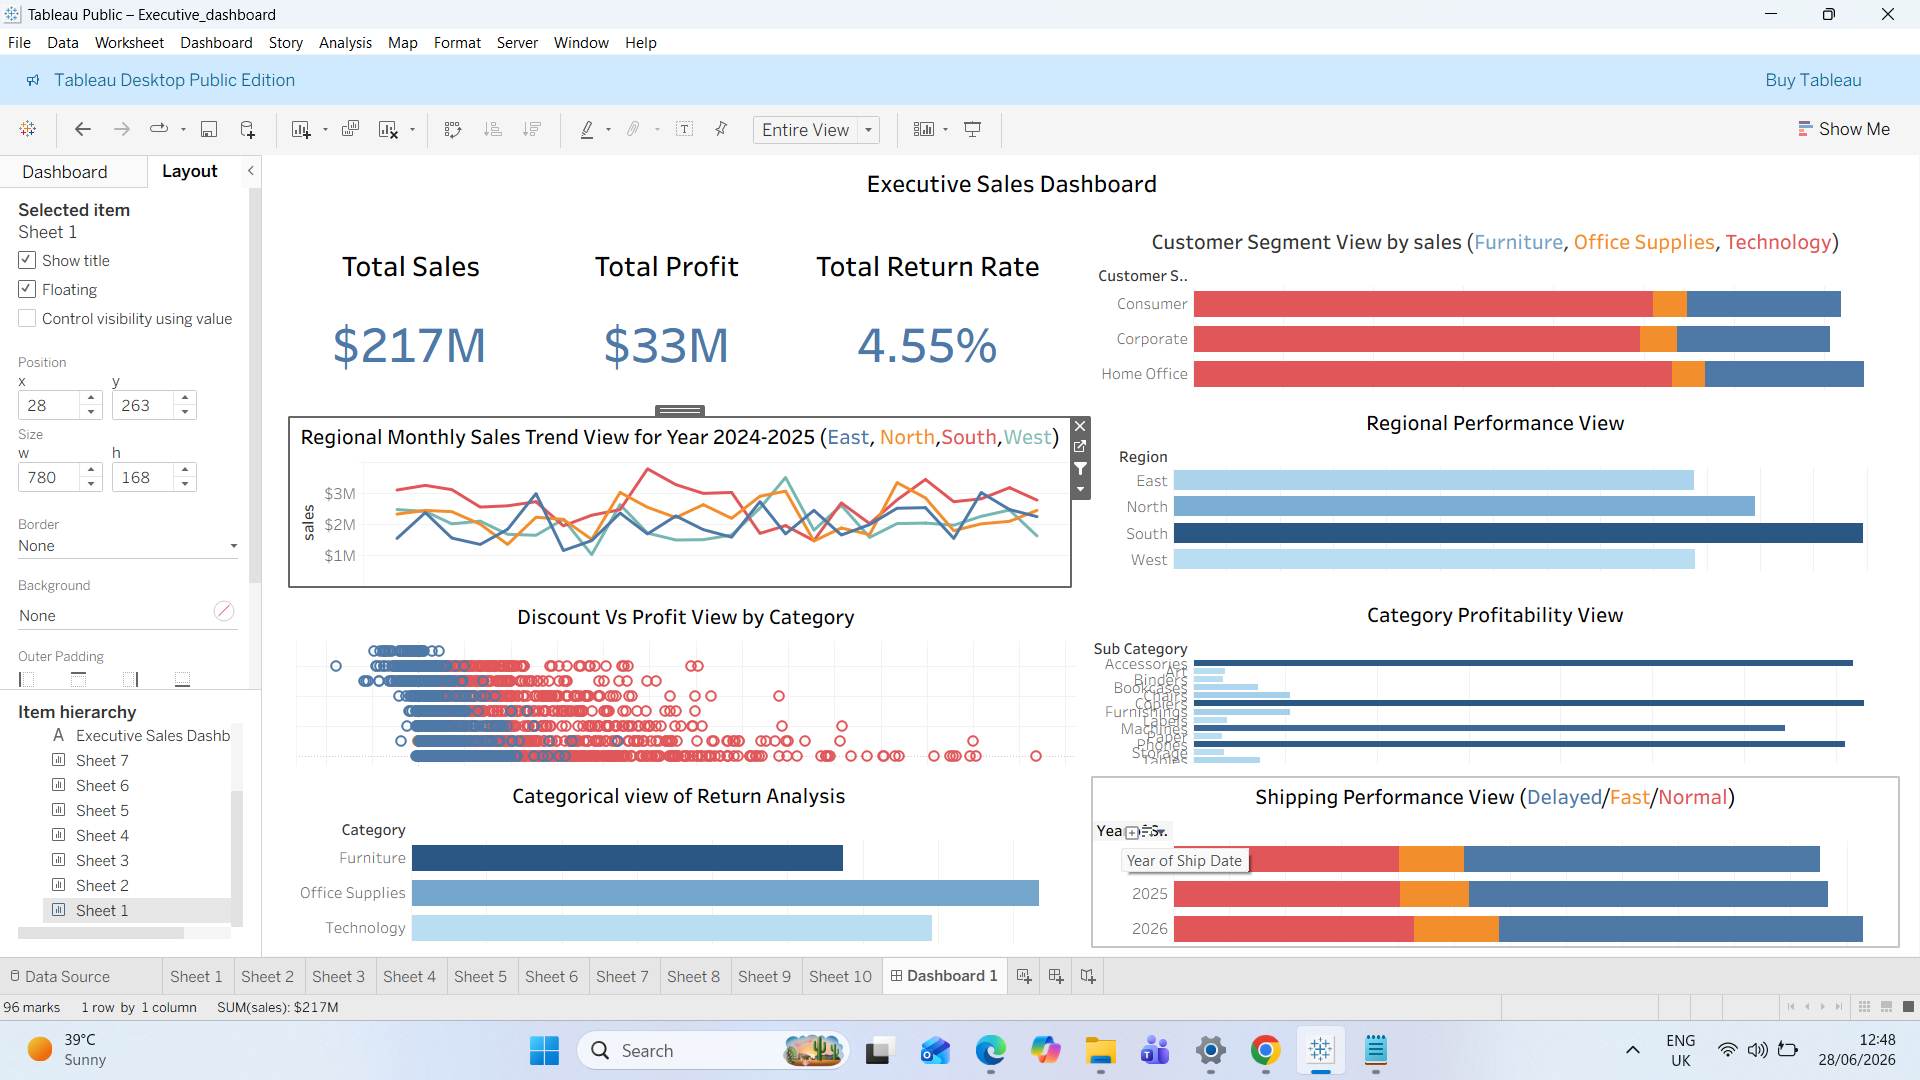

The dashboard page shown, as its layout file describes it:
{"tool":"tableau","page":{"name":"Dashboard 1","canvas":[1000,1000],"units":"permille","ordinal":0},"visuals":[{"type":"text","box":[362.7,15,179.8,40]},{"type":"worksheet","title":"Sheet 4","mark":"Automatic","rows":["customer_segment"],"cols":["sales"],"box":[501.5,84.9,485.8,209.7]},{"type":"worksheet","title":"Sheet 8","mark":"Automatic","box":[16.9,109.9,146.1,186]},{"type":"worksheet","title":"Sheet 9","mark":"Automatic","box":[171.4,109.9,146.1,186]},{"type":"worksheet","title":"Sheet 10","mark":"Automatic","box":[328.9,109.9,146.1,186]},{"type":"worksheet","title":"Sheet 2","mark":"Automatic","rows":["region"],"cols":["sales"],"box":[501.5,310.9,485.8,209.7]},{"type":"worksheet","title":"Sheet 1","mark":"Automatic","rows":["sales"],"cols":["order_date"],"box":[16.9,328.3,470.7,209.7]},{"type":"worksheet","title":"Sheet 3","mark":"Automatic","rows":["sub_category"],"cols":["profit"],"box":[501.5,550.6,485.8,209.7]},{"type":"worksheet","title":"Sheet 6","mark":"Automatic","rows":["discount"],"cols":["profit"],"box":[20.5,553.1,470.7,209.7]},{"type":"worksheet","title":"Sheet 7","mark":"Automatic","rows":["category"],"cols":["return_flag"],"box":[17.5,776.5,470.7,209.7]},{"type":"worksheet","title":"Sheet 5","mark":"Bar","rows":["ship_date"],"cols":["delivery_days"],"box":[501.5,777.8,485.8,209.7]}]}

Visuals, with their boxes on the dashboard's canvas, which has no fixed pixel size, in thousandths of its width and height (x1, y1, x2, y2). These are canvas units, not pixel positions in the 1920x1080 screenshot, which may show the page scaled, cropped or inside an application window:
text: (x1=363, y1=15, x2=542, y2=55)
"Sheet 4" worksheet: (x1=502, y1=85, x2=987, y2=295)
"Sheet 8" worksheet: (x1=17, y1=110, x2=163, y2=296)
"Sheet 9" worksheet: (x1=171, y1=110, x2=318, y2=296)
"Sheet 10" worksheet: (x1=329, y1=110, x2=475, y2=296)
"Sheet 2" worksheet: (x1=502, y1=311, x2=987, y2=521)
"Sheet 1" worksheet: (x1=17, y1=328, x2=488, y2=538)
"Sheet 3" worksheet: (x1=502, y1=551, x2=987, y2=760)
"Sheet 6" worksheet: (x1=20, y1=553, x2=491, y2=763)
"Sheet 7" worksheet: (x1=18, y1=776, x2=488, y2=986)
"Sheet 5" worksheet (Bar marks): (x1=502, y1=778, x2=987, y2=988)
